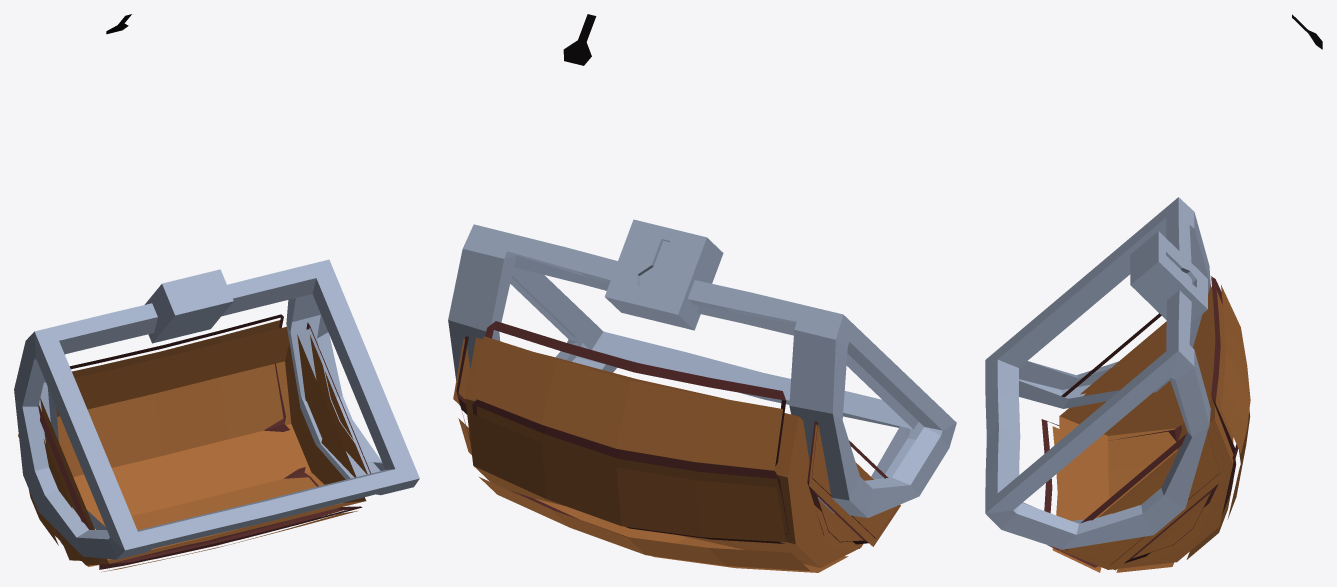
File: chest-top.glb
3 views of the same model, side by side, from view 1: azimuth 30°, elevation 25°; view 2: azimuth 150°, elevation 25°; view 3: azimuth 270°, elevation 25° (orthographic). The views are drawn at different scales.
Visible parts, largest first — view 1: chest top; view 2: chest top; view 3: chest top.
Boxes of the visible parts, x1,y1,x2,y2 form: chest top: [14, 14, 419, 572]; chest top: [448, 14, 956, 572]; chest top: [985, 14, 1322, 572].
Size of the model in its own units: 0.4372 by 0.6337 by 0.3845.
